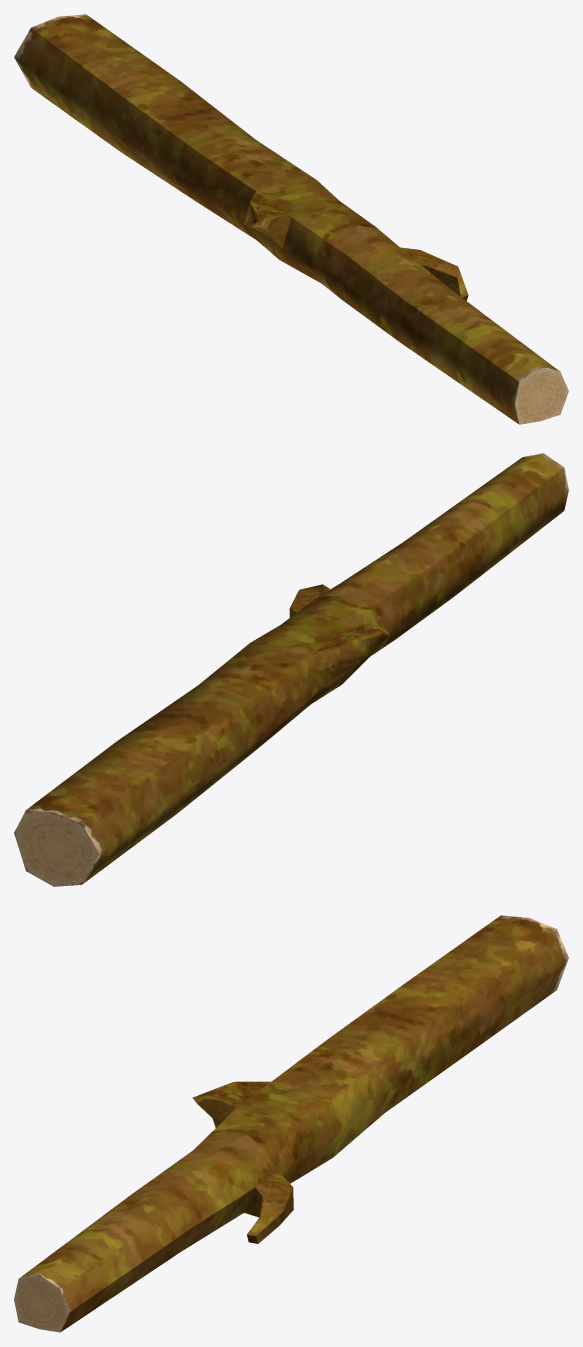
File: tree.fbx
3 renders of one model, top to bottom at view 1: azimuth 30°, elevation 25°; view 2: azimuth 150°, elevation 25°; view 3: azimuth 330°, elevation 25°, orthographic.
Parts seen in each view (by area): view 1: Cylinder001; view 2: Cylinder001; view 3: Cylinder001.
Part boxes in pixels (x1,y1,x2,y2): Cylinder001: [14, 14, 568, 424]; Cylinder001: [14, 453, 568, 886]; Cylinder001: [14, 915, 568, 1332].
Bounding box in the file's own units: 142 × 69.97 × 800.
